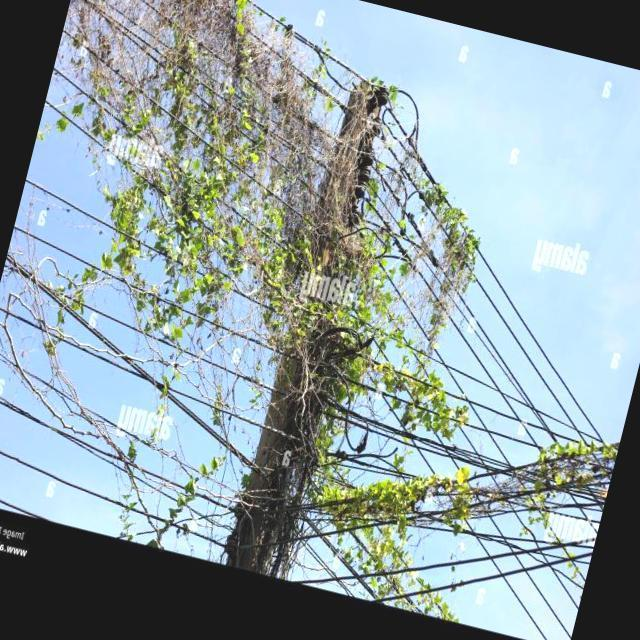critical vegetation: (86, 21, 506, 580)
